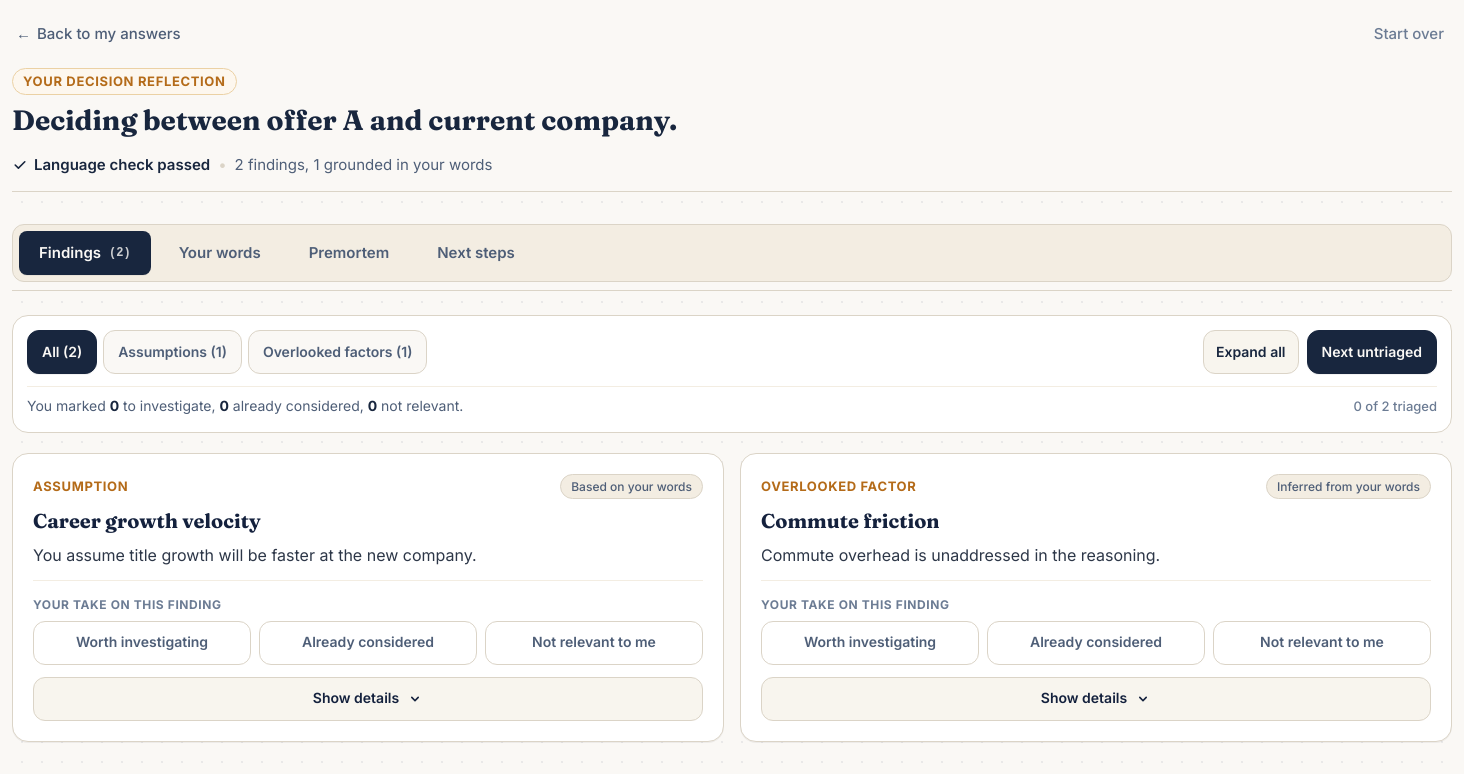
Test: Phase 9: Results Redesign & Reliability Integration › Filter Chips & Mobile Select › desktop filter chips show non-zero counts and filter visible findings
The width and height of the screenshot is (1464, 774).
Filter by assumptions
Click the button "Assumptions (1)": (173, 352) [103, 330, 242, 374]
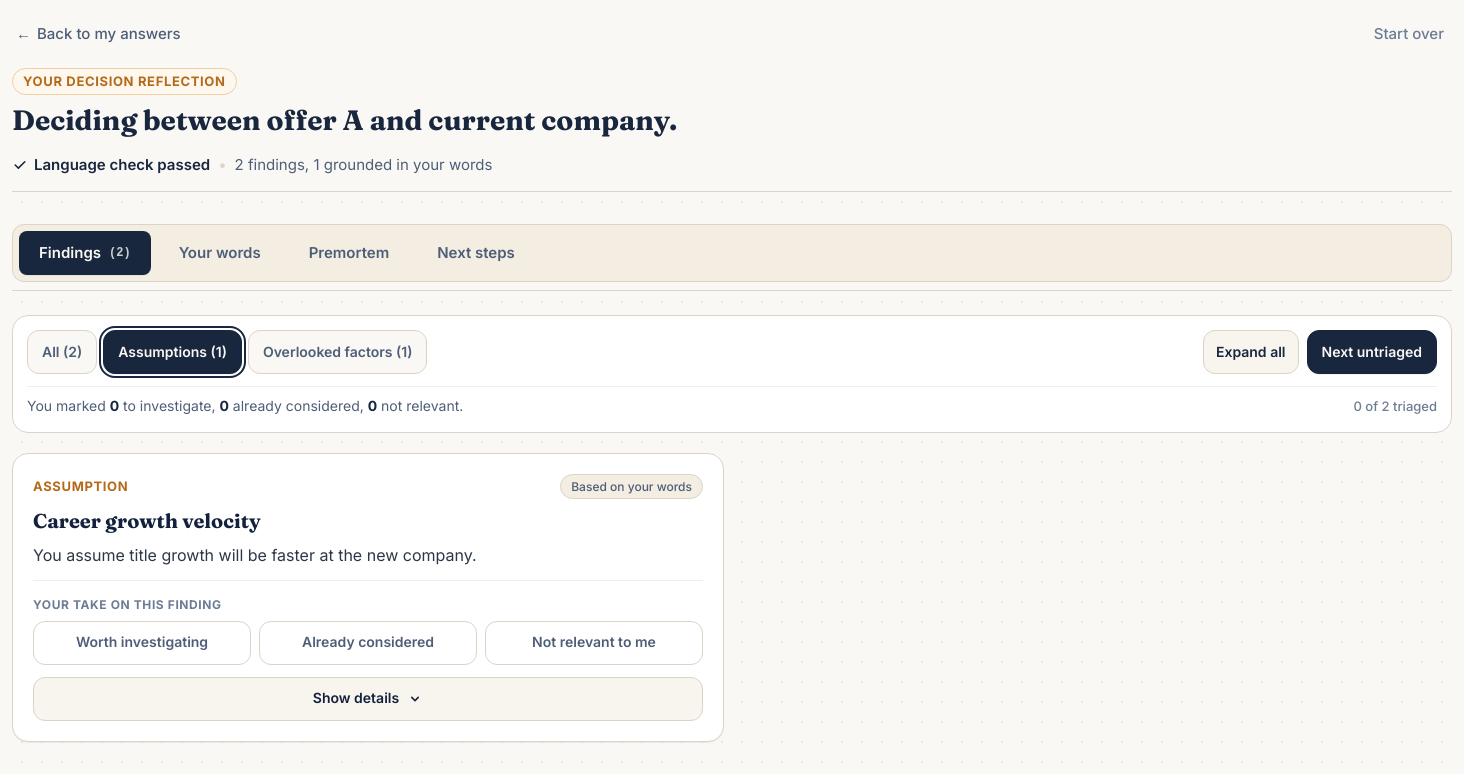
Expected: the heading "Career growth velocity" is shown, [33, 508, 261, 533]
Result: the heading "Commute friction" is gone
Filter by overlooked
Click the button "Overlooked factors (1)": (338, 352) [248, 330, 428, 374]
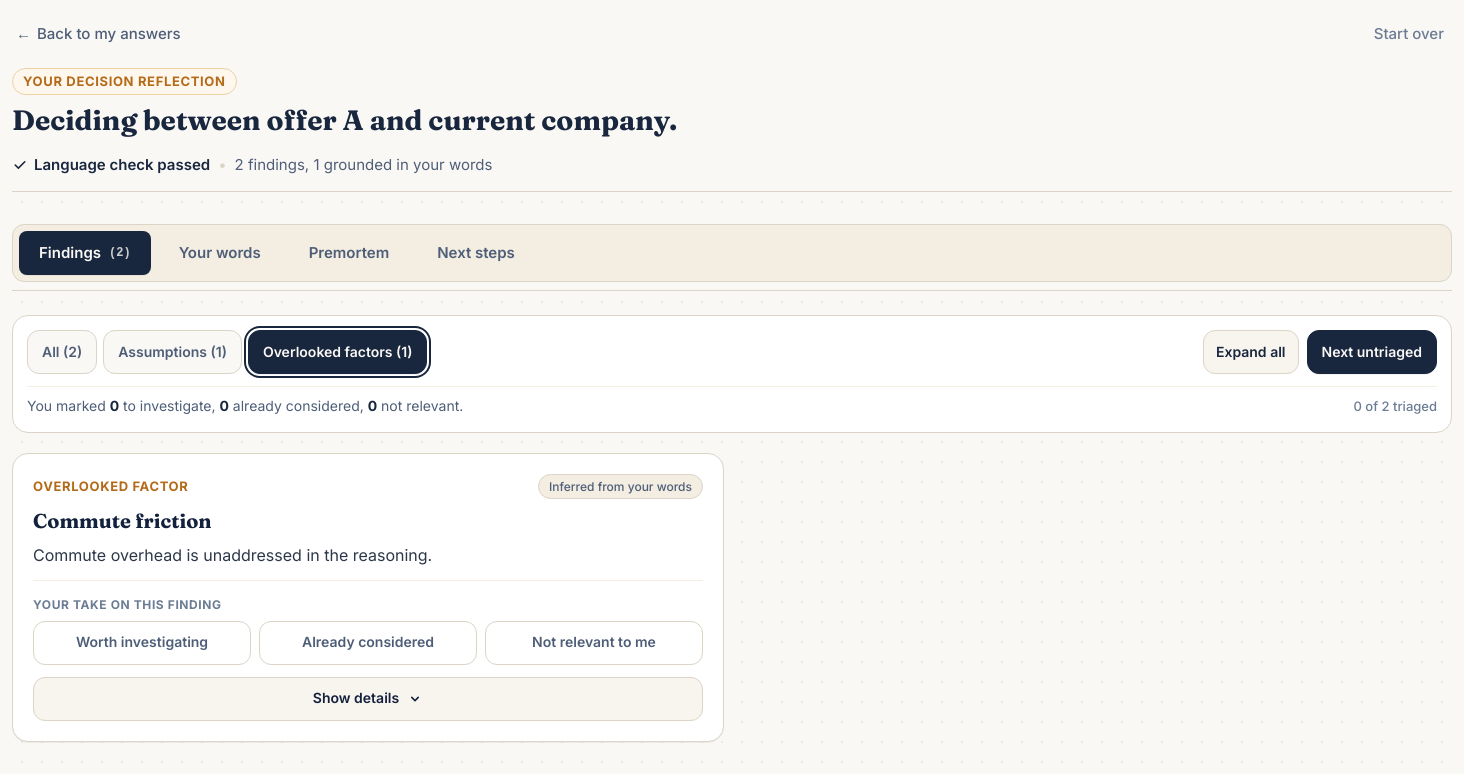
Result: the heading "Career growth velocity" is gone
Result: the heading "Commute friction" is shown at [33, 508, 212, 533]
